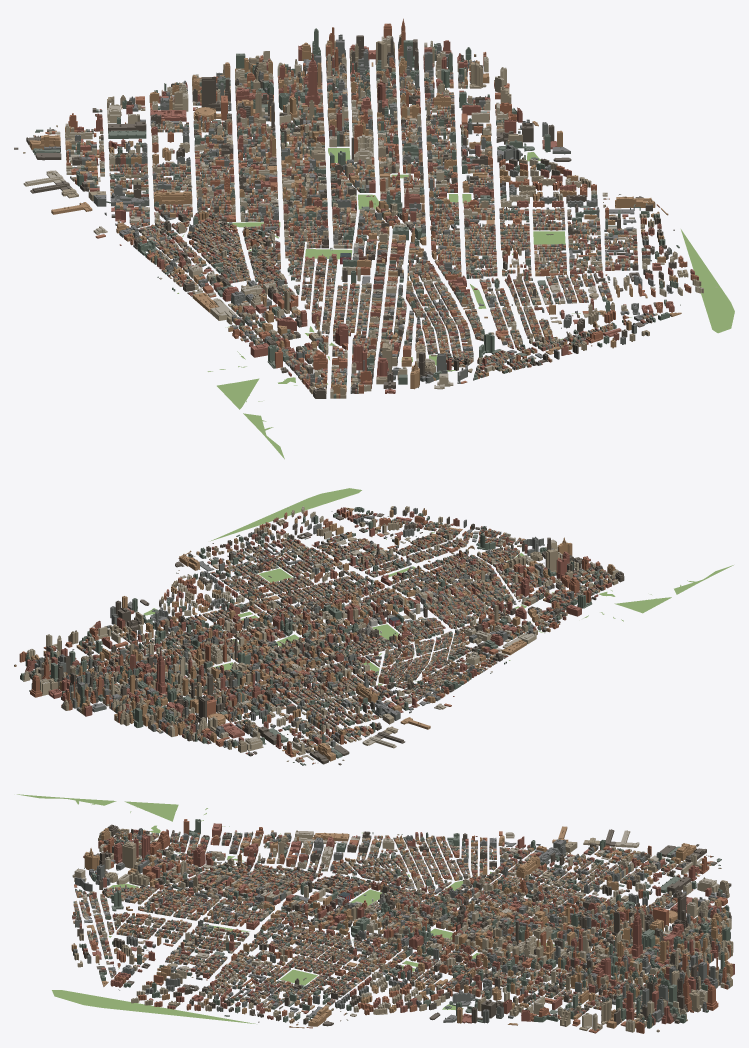
File: overview.glb
3 renders of one model, top to bottom at view 1: azimuth 30°, elevation 25°; view 2: azimuth 150°, elevation 25°; view 3: azimuth 270°, elevation 25°, orthographic. The views are drawn at different scales.
Visible parts, largest first — view 1: wall, roof, overview-park-grass; view 2: wall, roof, overview-park-grass; view 3: wall, roof, overview-park-grass.
Boxes of the visible parts, x1,y1,x2,y2 form: wall: (14, 19, 703, 398); roof: (14, 18, 717, 395); overview-park-grass: (177, 143, 734, 459); wall: (14, 506, 624, 765); roof: (14, 506, 623, 764); overview-park-grass: (144, 488, 733, 684); wall: (71, 819, 734, 1033); roof: (72, 819, 734, 1032); overview-park-grass: (17, 794, 554, 1023).
Bounding box in the file's own units: 4102 × 456 × 5201.
